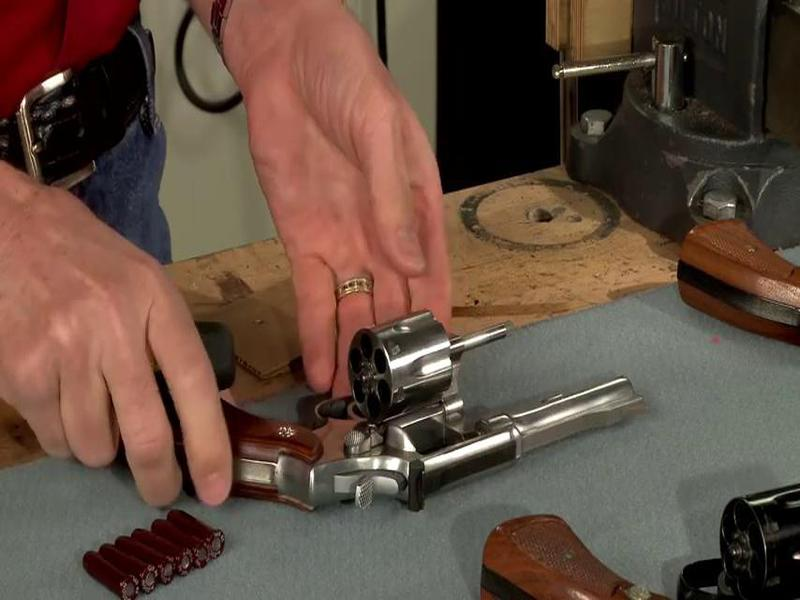Revolver: (127, 300, 645, 503)
